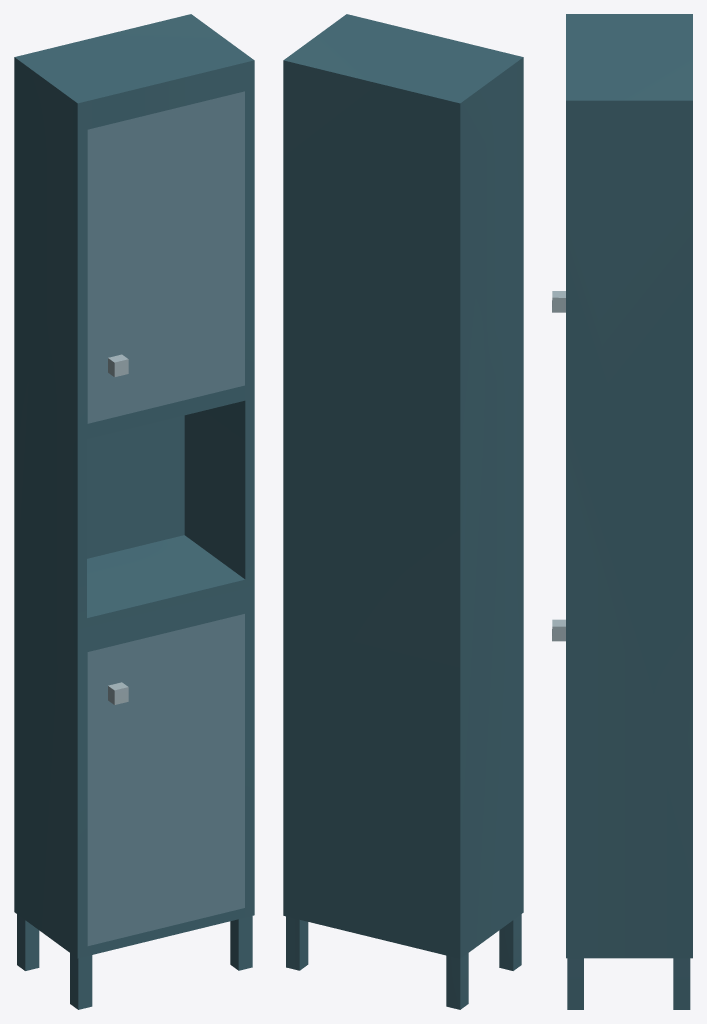
File: closet_025.glb
3 renders of one model, left to right at view 1: azimuth 30°, elevation 25°; view 2: azimuth 150°, elevation 25°; view 3: azimuth 270°, elevation 25°, orthographic.
Visible parts, largest first — view 1: closet_025; view 2: closet_025; view 3: closet_025.
Boxes of the visible parts, left/top/right/bottom form: closet_025: left=14, top=14, right=254, bottom=1009; closet_025: left=283, top=14, right=523, bottom=1009; closet_025: left=552, top=14, right=692, bottom=1009.
Bounding box in the file's own units: 0.3999 × 1.96 × 0.2749.
Materials: 1 (1 with a texture image).
